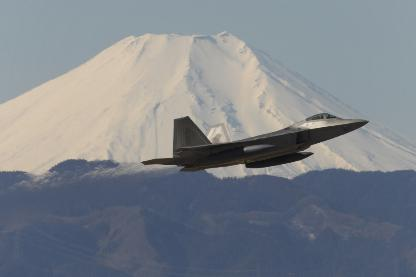F18: (140, 112, 368, 171)
